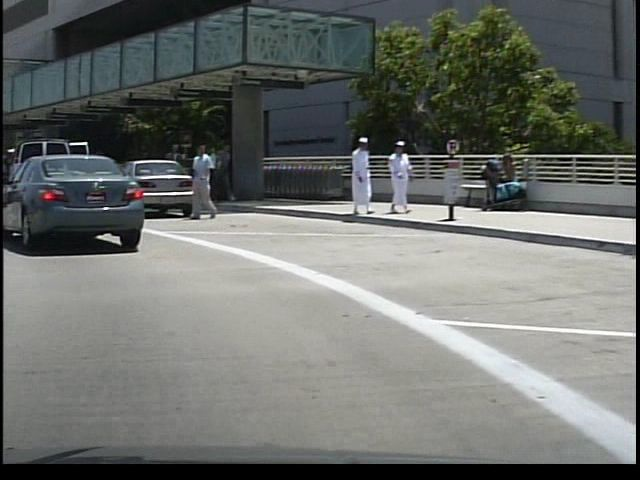person: (185, 136, 219, 226), (382, 134, 414, 217), (343, 132, 371, 220)
